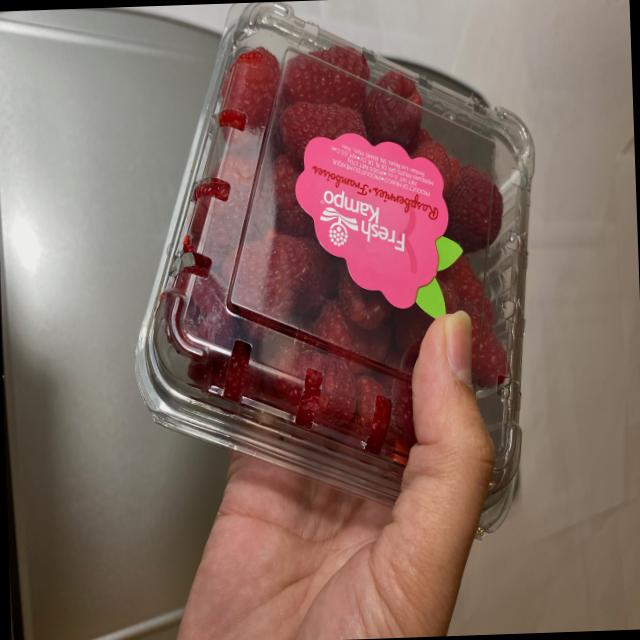raspberries: (174, 8, 520, 412)
